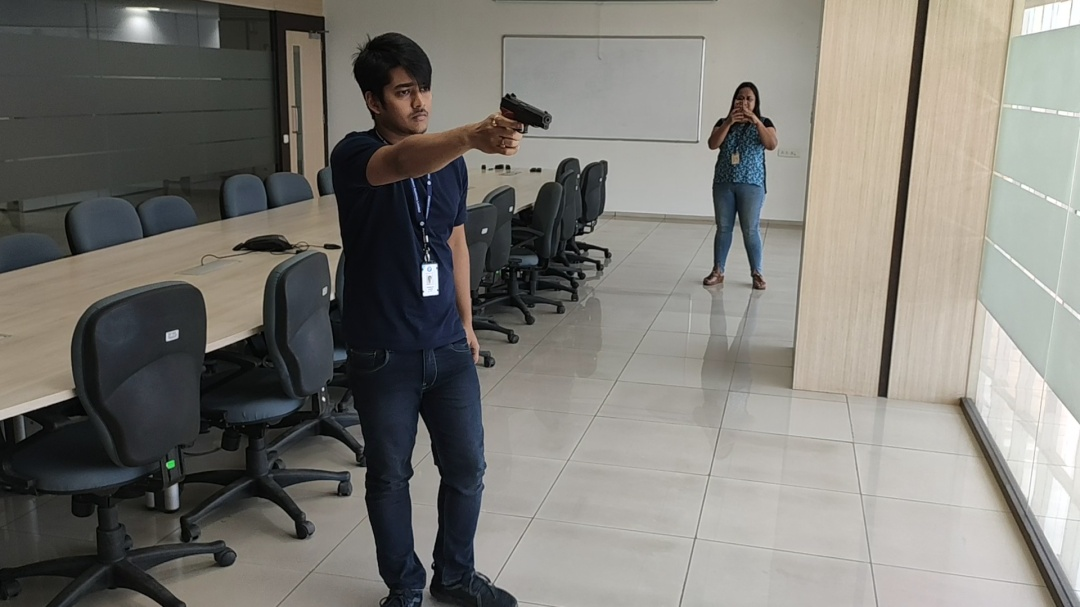gun: (497, 90, 560, 131)
